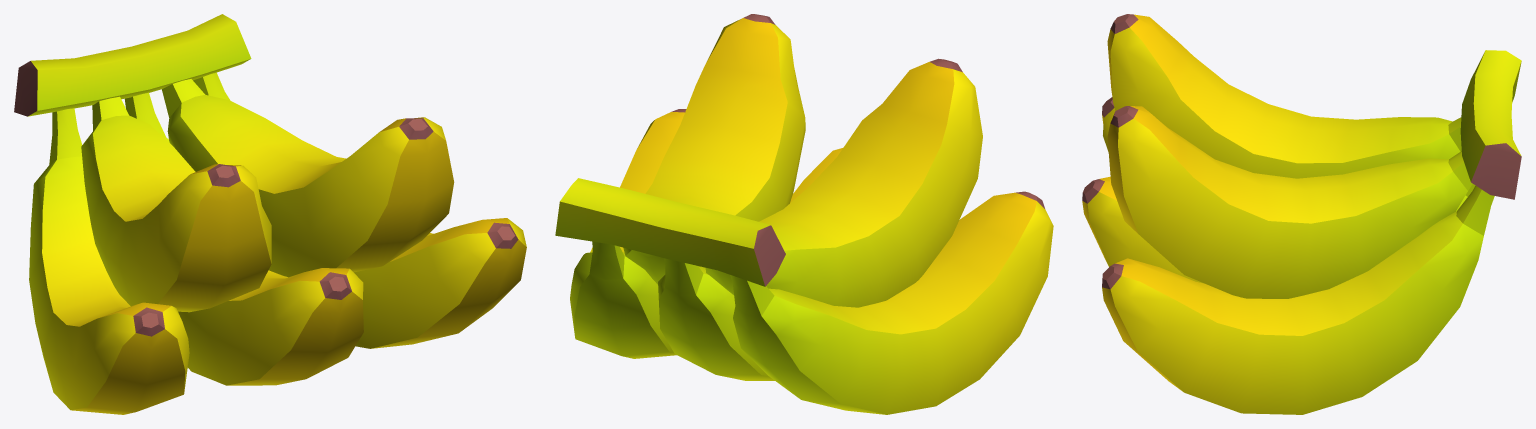
Rendered from Banana_Bunch_01.fbx.
3 renders of one model, left to right at view 1: azimuth 30°, elevation 25°; view 2: azimuth 150°, elevation 25°; view 3: azimuth 270°, elevation 25°, orthographic. The views are drawn at different scales.
Visible parts, largest first — view 1: Banana_Bunch_01; view 2: Banana_Bunch_01; view 3: Banana_Bunch_01.
Part boxes in pixels (bbox=[...]): Banana_Bunch_01: bbox=[14, 14, 526, 414]; Banana_Bunch_01: bbox=[555, 14, 1053, 414]; Banana_Bunch_01: bbox=[1082, 14, 1521, 414].
Size of the model in its own units: 0.8448 by 0.547 by 0.7825.
